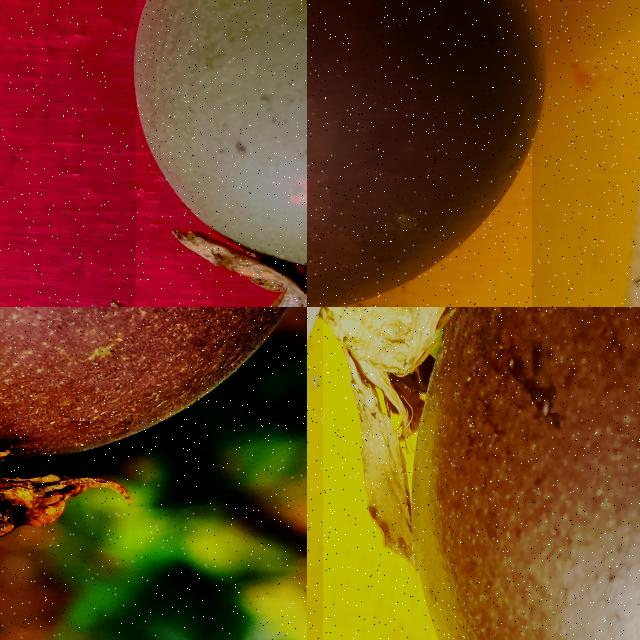Estado-5: (307, 0, 532, 307)
Estado-6: (323, 307, 640, 640)
